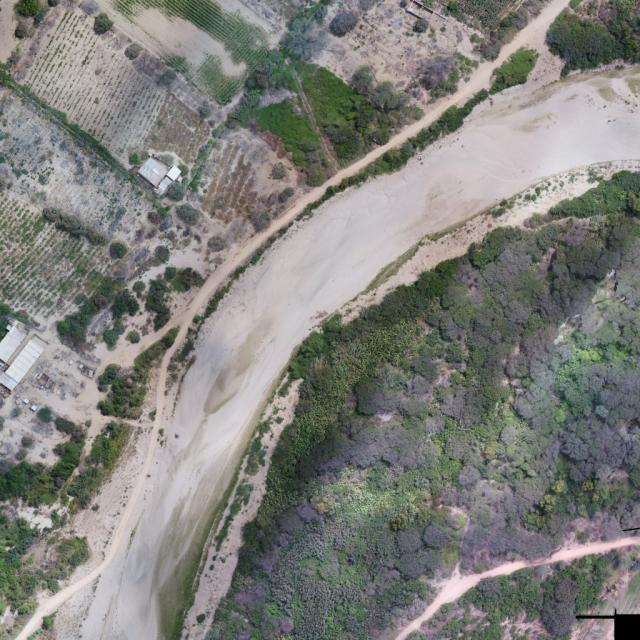agricultural_land: (293, 40, 423, 170), (86, 308, 178, 428), (126, 138, 226, 210), (198, 140, 274, 230), (545, 0, 640, 72), (400, 33, 484, 112), (128, 253, 206, 332), (251, 90, 328, 169), (321, 110, 370, 165), (224, 159, 262, 224), (136, 203, 183, 245), (202, 218, 248, 258), (128, 242, 173, 276), (175, 202, 204, 244), (331, 74, 353, 97)
greenland: (400, 549, 636, 640), (408, 82, 494, 158), (543, 0, 568, 20)
unmetalled_road: (479, 25, 588, 145)
